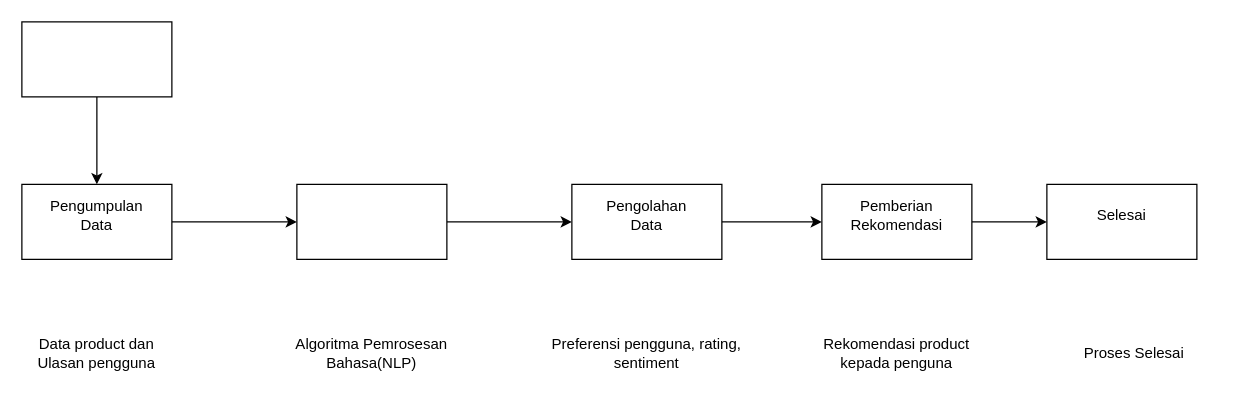
This 1256x406 diagram has some shape labels left out. Here are the shapes that lost their labels. From the top down, the centre of each, then its label:
the point at 96,59: Mulai
the point at 371,221: Analisis Sentiment
